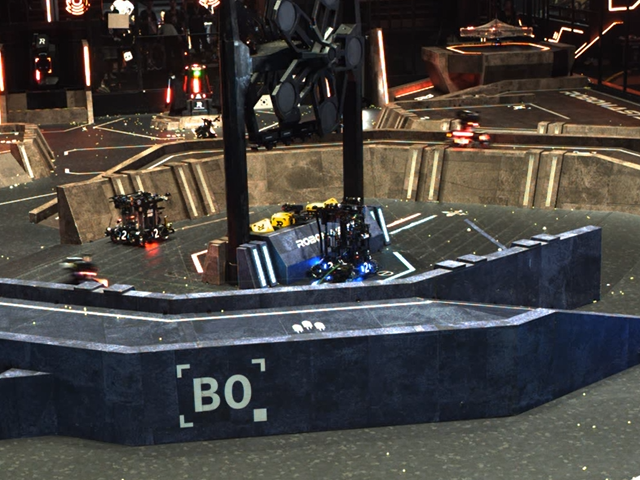rm: (311, 197, 377, 282), (109, 192, 169, 246), (445, 112, 490, 145)
